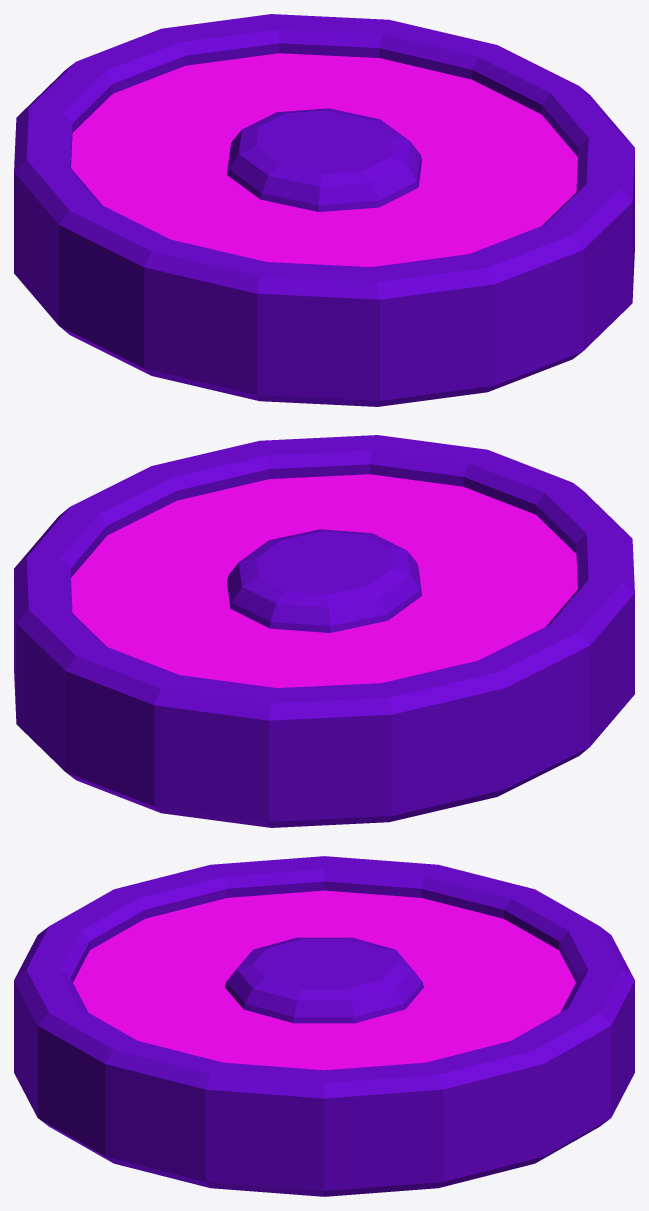
File: Mystery Meat.fbx
3 views of the same model, one above another, from view 1: azimuth 30°, elevation 25°; view 2: azimuth 150°, elevation 25°; view 3: azimuth 270°, elevation 25° (orthographic). The views are drawn at different scales.
Parts seen in each view (by area): view 1: Mystery Meat; view 2: Mystery Meat; view 3: Mystery Meat.
Part boxes in pixels (x1=…): Mystery Meat: x1=14, y1=14, x2=634, y2=406; Mystery Meat: x1=14, y1=435, x2=634, y2=827; Mystery Meat: x1=14, y1=856, x2=634, y2=1196.
Bounding box in the file's own units: 52.63 × 12.38 × 58.37.
